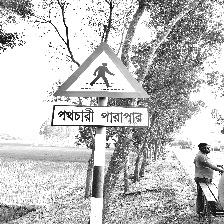Pedestrian-crossing: (53, 42, 151, 127)
